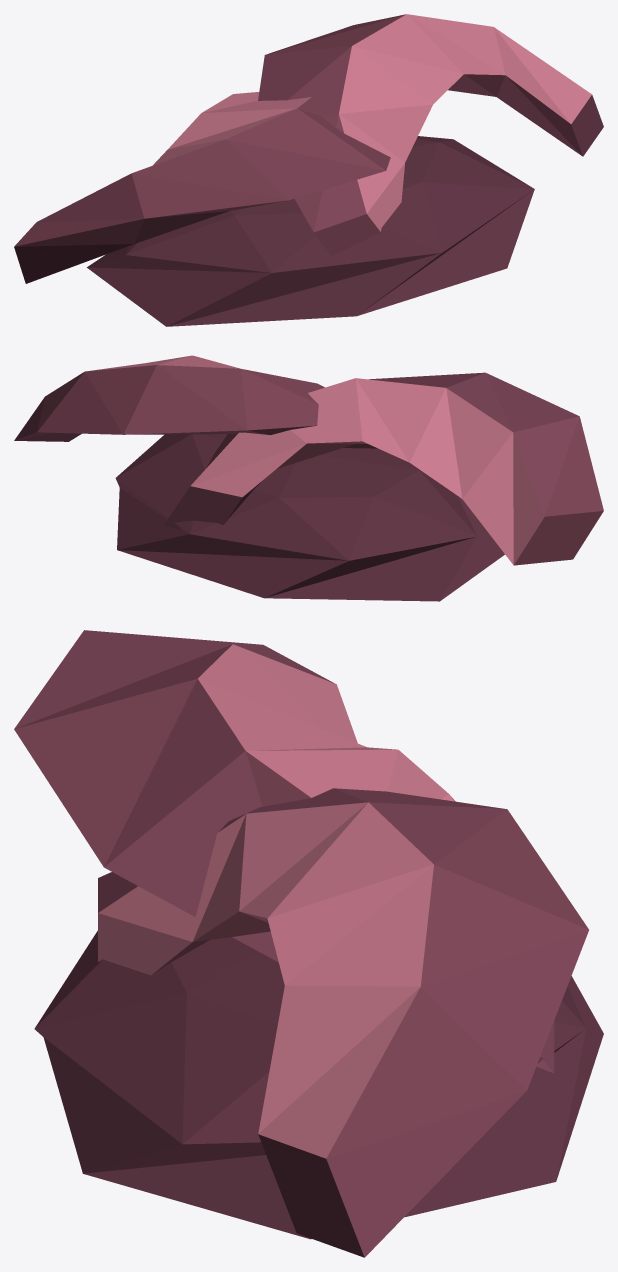
The model's file is item_meat_twisted_a.obj.
3 renders of one model, top to bottom at view 1: azimuth 30°, elevation 25°; view 2: azimuth 150°, elevation 25°; view 3: azimuth 270°, elevation 25°, orthographic. The views are drawn at different scales.
Size of the model in its own units: 0.8998 by 0.2494 by 0.4298.
